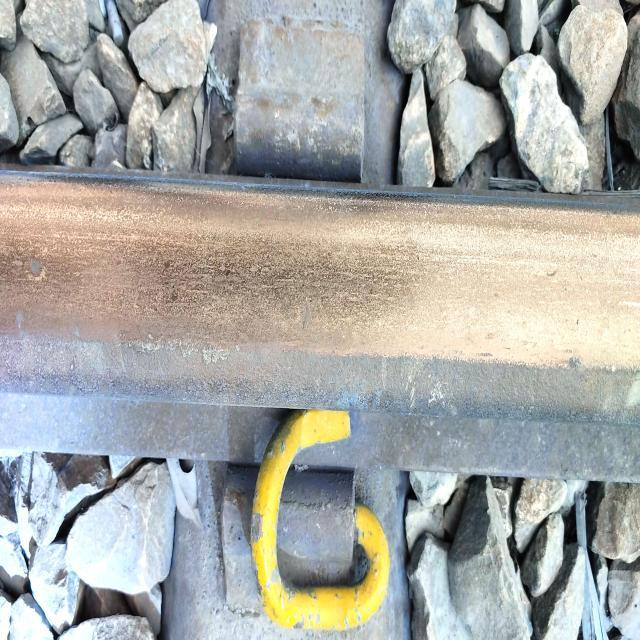Good Fasteners: (196, 399, 396, 640)
Missing Fastener: (211, 4, 387, 194)
